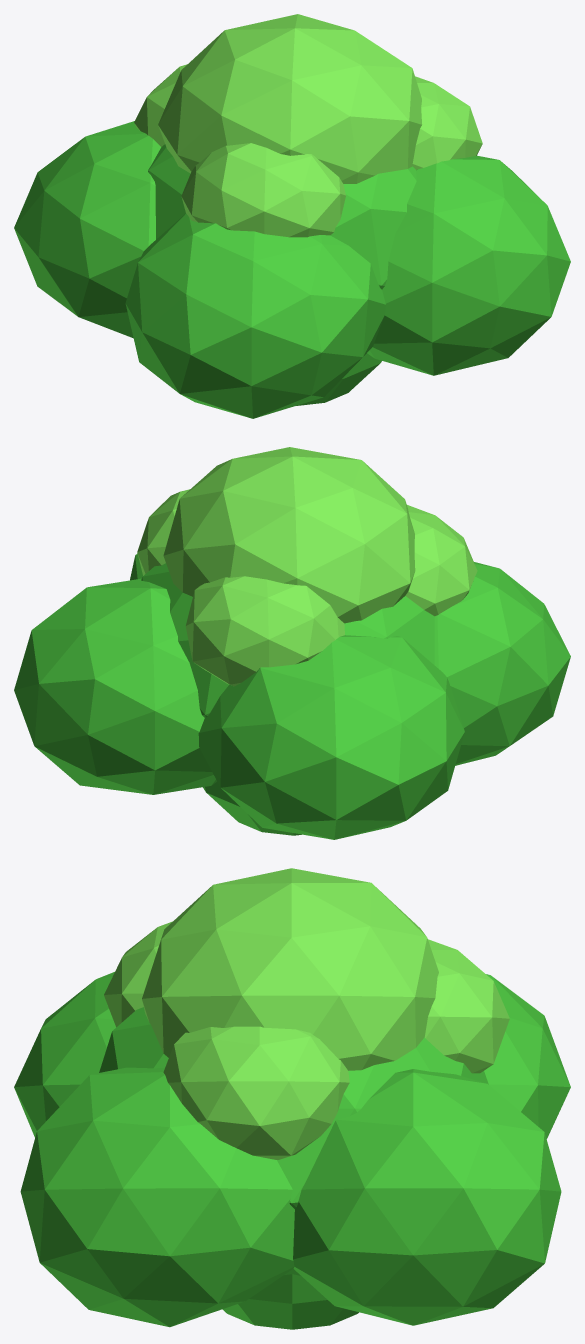
Rendered from CloverLeaves.obj.
3 views of the same model, one above another, from view 1: azimuth 30°, elevation 25°; view 2: azimuth 150°, elevation 25°; view 3: azimuth 270°, elevation 25° (orthographic). The views are drawn at different scales.
Parts seen in each view (by area): view 1: CloverLeaves_Foliage, CloverLeaves_FoliageLight; view 2: CloverLeaves_Foliage, CloverLeaves_FoliageLight; view 3: CloverLeaves_Foliage, CloverLeaves_FoliageLight.
Boxes of the visible parts, x1,y1,x2,y2 form: CloverLeaves_Foliage: (14,121,570,418); CloverLeaves_FoliageLight: (134,14,482,237); CloverLeaves_Foliage: (14,553,570,839); CloverLeaves_FoliageLight: (137,447,477,686); CloverLeaves_Foliage: (14,972,570,1329); CloverLeaves_FoliageLight: (104,868,509,1159).
Size of the model in its own units: 3.4 by 2.8 by 3.4.
